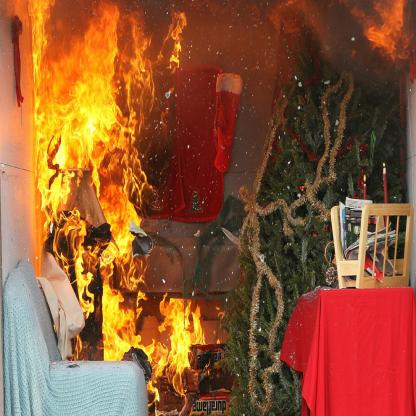fire: (26, 0, 208, 409)
smoke: (281, 1, 384, 87)
